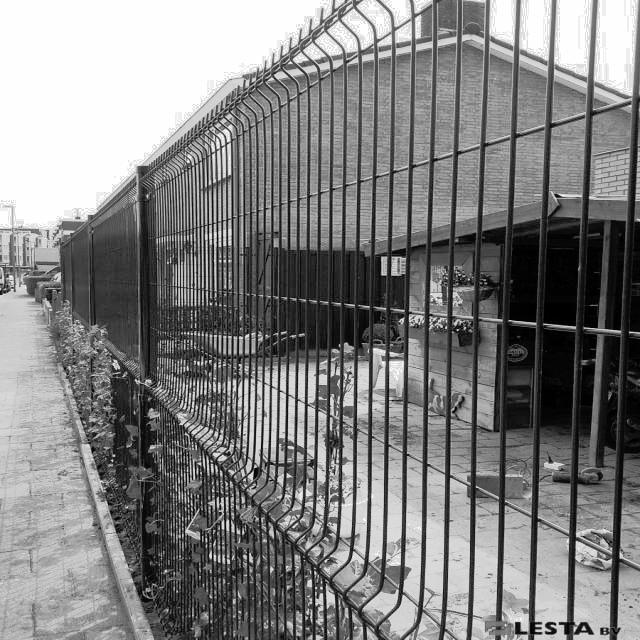fences: (151, 14, 632, 640), (37, 196, 136, 368)
